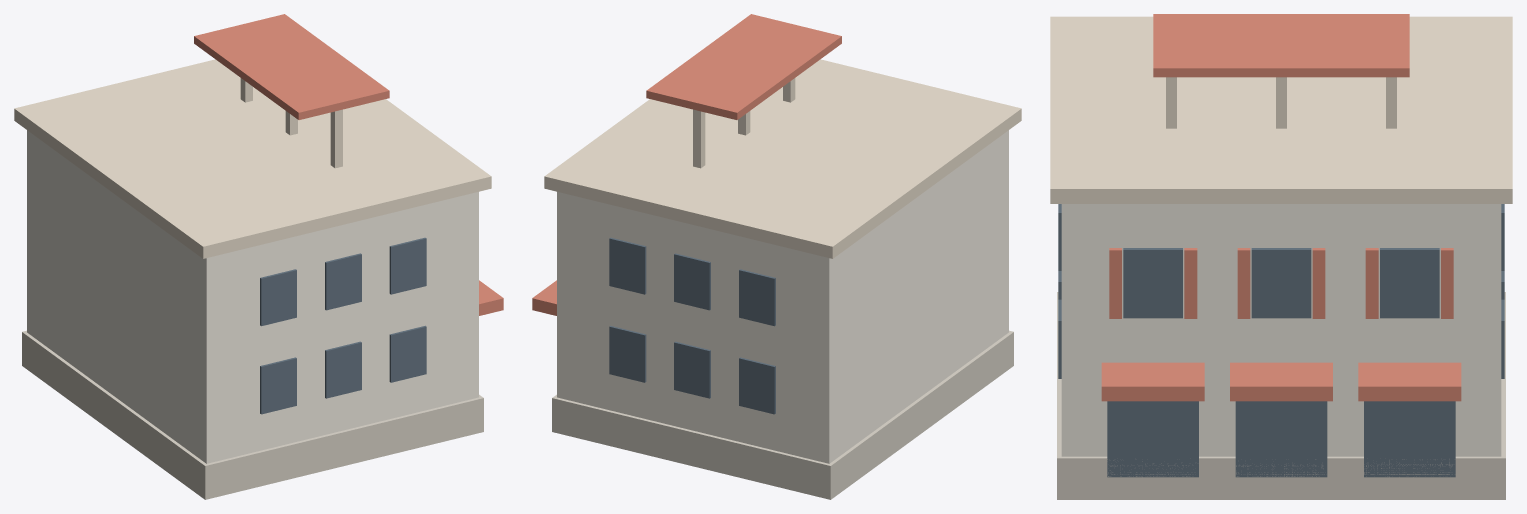
The model's file is rambla_building_1.glb.
The picture shows the model from 3 angles, left to right: view 1: azimuth 30°, elevation 25°; view 2: azimuth 150°, elevation 25°; view 3: azimuth 270°, elevation 25°; orthographic projection. The views are drawn at different scales.
Visible parts, largest first — view 1: RamblaBuilding_1; view 2: RamblaBuilding_1; view 3: RamblaBuilding_1.
Part boxes in pixels (x1,y1,x2,y2): RamblaBuilding_1: (14,14,503,499); RamblaBuilding_1: (532,14,1021,499); RamblaBuilding_1: (1050,14,1512,499).
Size of the model in its own units: 9.92 by 9.61 by 10.1.
